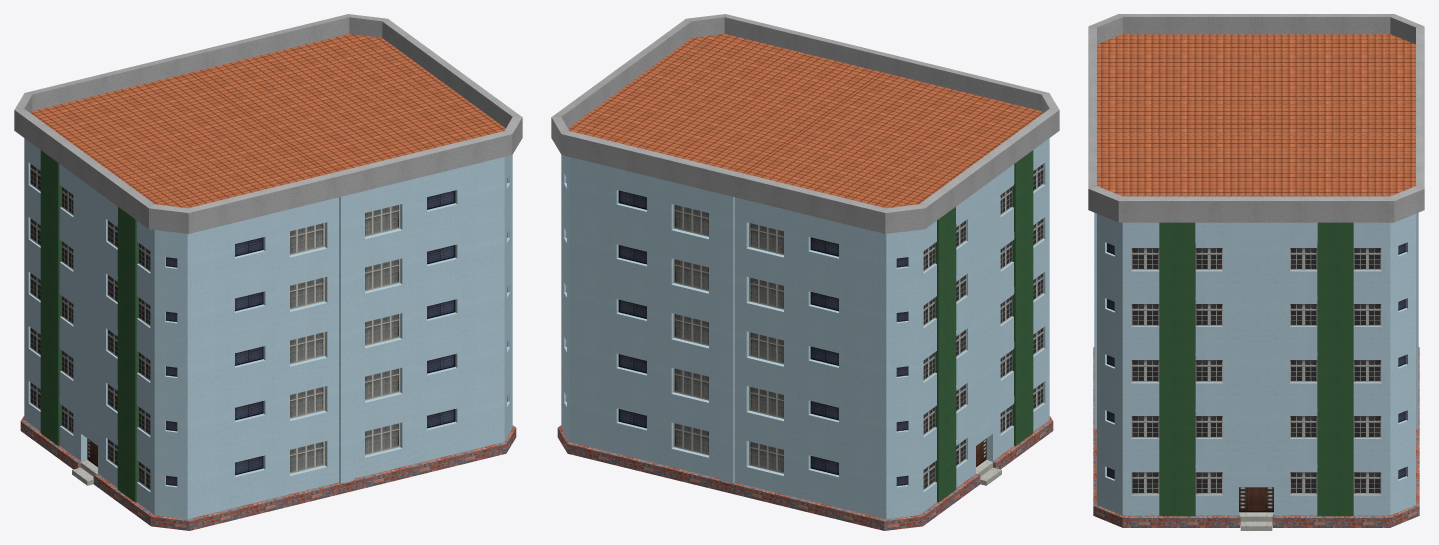
The model's file is predio5.fbx.
3 renders of one model, left to right at view 1: azimuth 30°, elevation 25°; view 2: azimuth 150°, elevation 25°; view 3: azimuth 270°, elevation 25°, orthographic. The views are drawn at different scales.
Visible parts, largest first — view 1: predio5; view 2: predio5; view 3: predio5.
Part boxes in pixels (<box>): predio5: <box>14,14,522,530</box>; predio5: <box>551,14,1059,530</box>; predio5: <box>1088,14,1424,530</box>.
Bounding box in the file's own units: 22.87 × 18.61 × 17.22.
